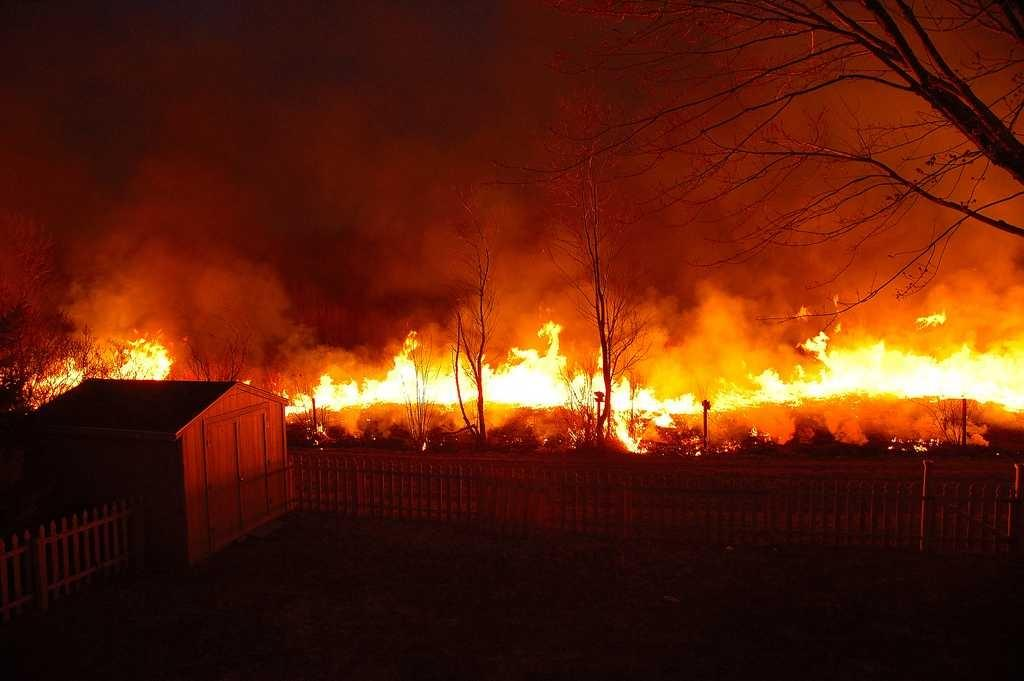fire: (298, 345, 676, 418), (734, 340, 1024, 413)
